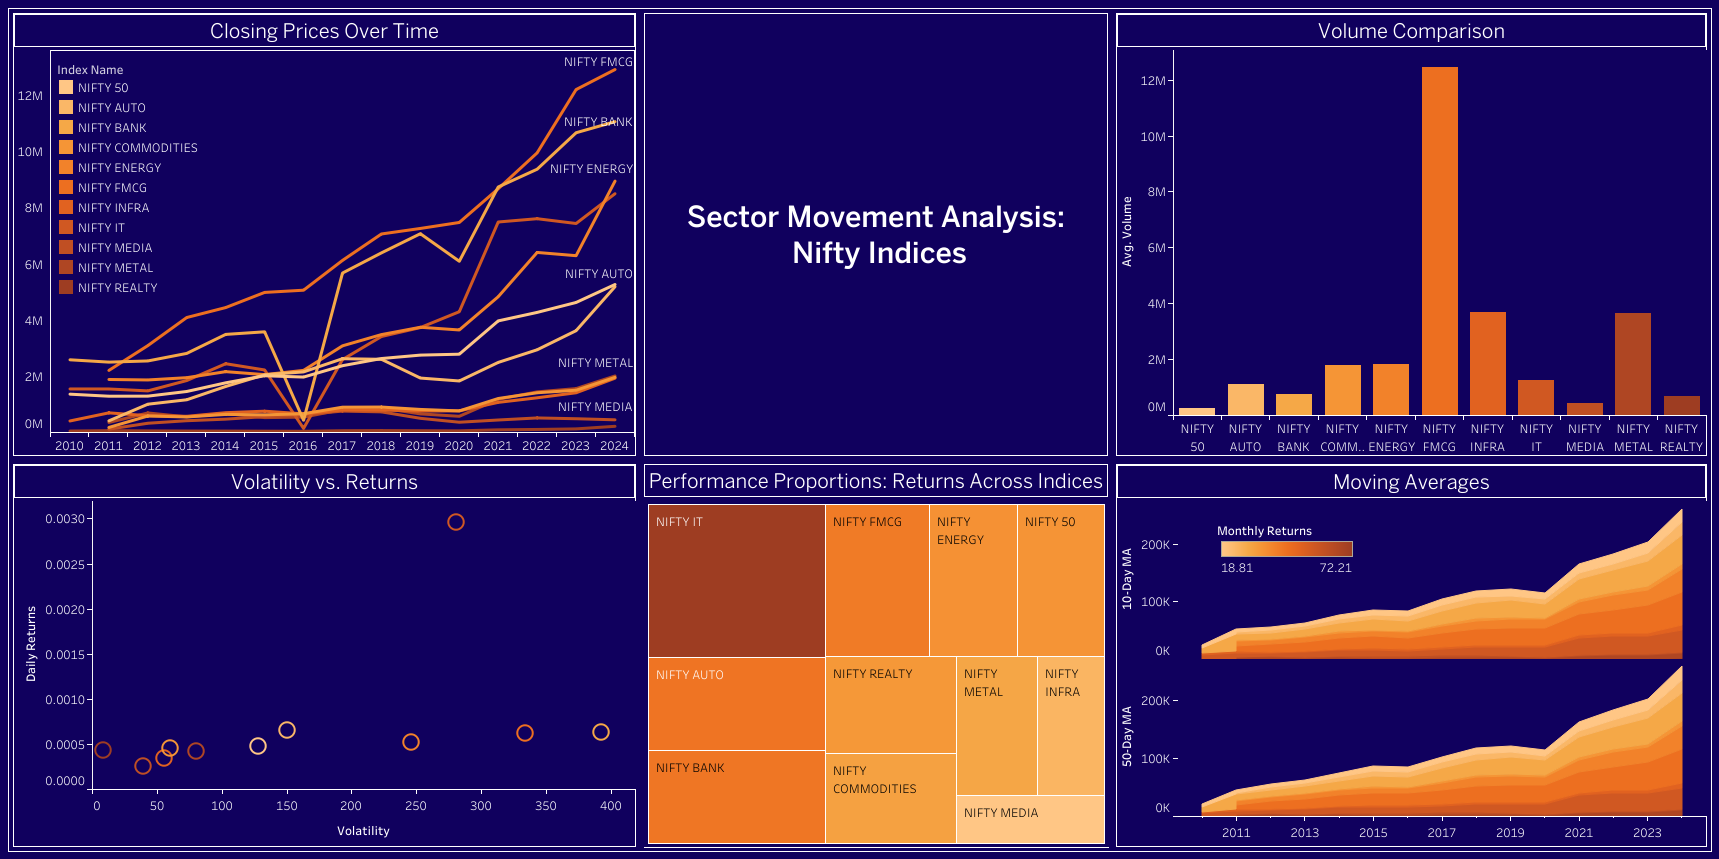

Layout of this report page (visuals, bound fields, positions):
{"tool":"tableau","page":{"name":"Dashboard 1","canvas":[1000,1000],"units":"permille","ordinal":0},"visuals":[{"type":"worksheet","title":"Closing Prices Over Time","mark":"Automatic","rows":["Close"],"cols":["Date"],"box":[5.2,10.5,367,524.3]},{"type":"text","box":[372.2,10.5,274.5,524.3]},{"type":"worksheet","title":"Sheet 1 (6)","mark":"Automatic","rows":["Volume"],"cols":["IndexName"],"box":[646.8,10.5,348,524.3]},{"type":"legend","title":"Closing Prices Over Time","param":"[federated.1ga6umu0gutrrx16dn5030dssfxi].[none:IndexName:nk]","box":[32.6,67.4,84.3,301.2]},{"type":"worksheet","title":"Volatility vs. Returns","mark":"Automatic","rows":["Daily Returns"],"cols":["Volatility"],"box":[5.2,534.8,367,454.8]},{"type":"worksheet","title":"Performance Proportions: Returns Across Indices","mark":"Automatic","box":[372.2,534.8,274.5,454.8]},{"type":"worksheet","title":"Moving Averages","mark":"Area","rows":["10-Day MA","50-Day MA"],"cols":["Date"],"box":[646.8,534.8,348,454.8]},{"type":"legend","title":"Performance Proportions: Returns Across Indices","param":"[federated.1ga6umu0gutrrx16dn5030dssfxi].[sum:Monthly Returns:qk]","box":[707.6,601.2,81.4,102.3]}]}

Visuals, with their boxes on the dashboard's canvas, which has no fixed pixel size, in thousandths of its width and height (x1, y1, x2, y2). These are canvas units, not pixel positions in the 1719x859 screenshot, which may show the page scaled, cropped or inside an application window:
"Closing Prices Over Time" worksheet: <box>5,10,372,535</box>
text: <box>372,10,647,535</box>
"Sheet 1 (6)" worksheet: <box>647,10,995,535</box>
"Closing Prices Over Time" legend: <box>33,67,117,369</box>
"Volatility vs. Returns" worksheet: <box>5,535,372,990</box>
"Performance Proportions: Returns Across Indices" worksheet: <box>372,535,647,990</box>
"Moving Averages" worksheet (Area marks): <box>647,535,995,990</box>
"Performance Proportions: Returns Across Indices" legend: <box>708,601,789,704</box>
